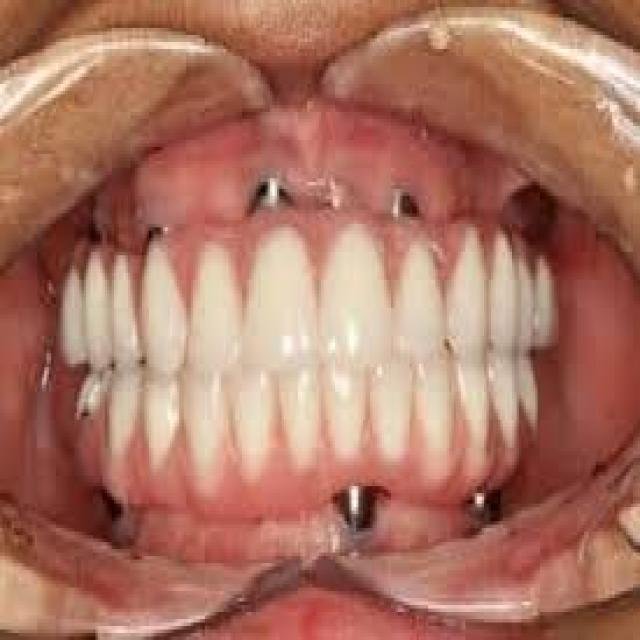tooth: (242, 196, 319, 381), (319, 210, 391, 364), (186, 220, 242, 382), (391, 214, 447, 368), (137, 220, 184, 385), (228, 360, 282, 497), (449, 213, 489, 371), (277, 350, 323, 486), (184, 360, 230, 490), (414, 353, 454, 493), (137, 360, 184, 476), (370, 356, 414, 476), (326, 350, 370, 465), (107, 224, 137, 371), (456, 350, 491, 472), (491, 217, 521, 350), (107, 357, 142, 465), (491, 343, 521, 458)
